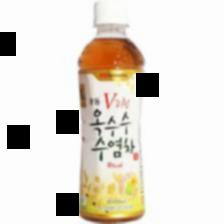oksususuyeomcha: (78, 1, 147, 223)
